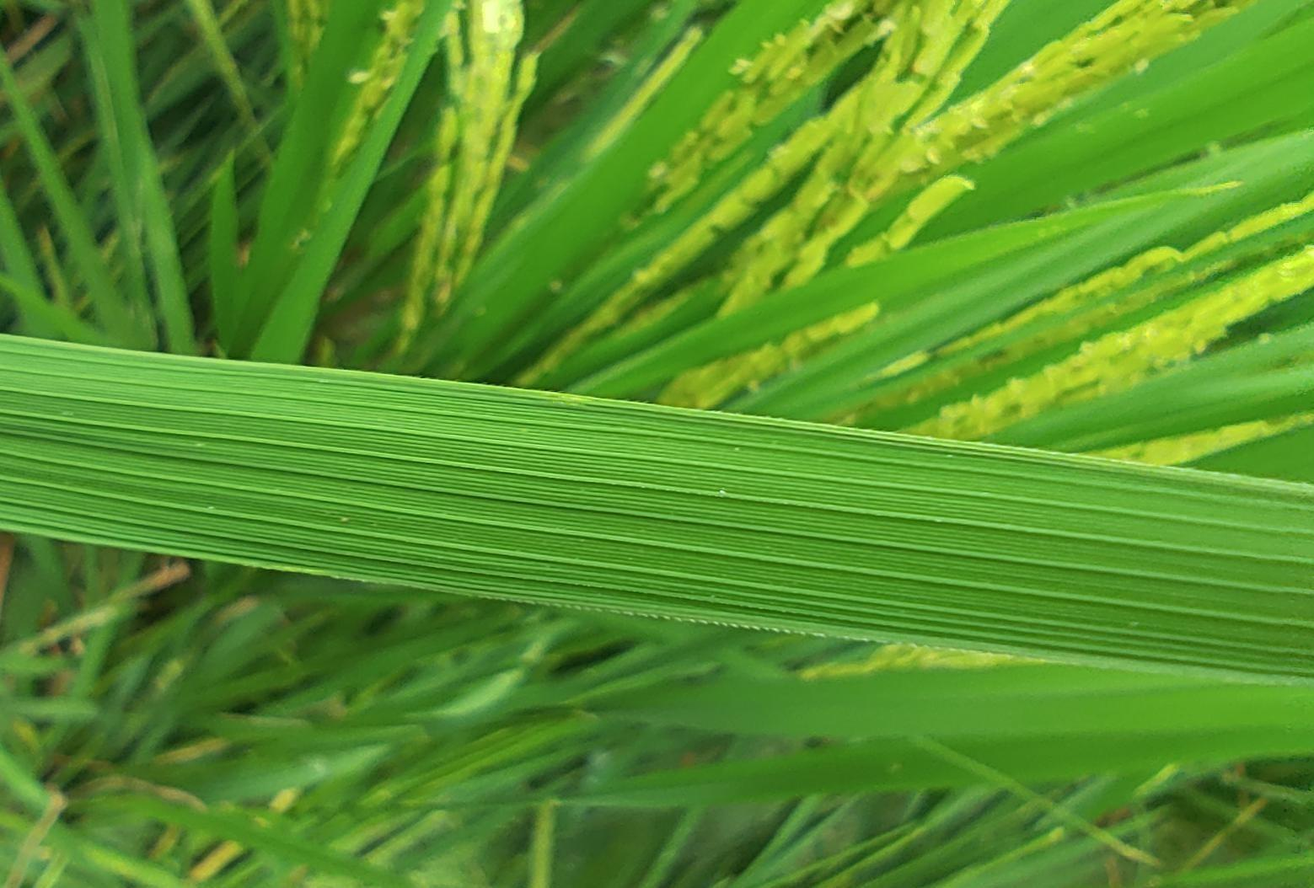Healthy: (1, 336, 1313, 685)
